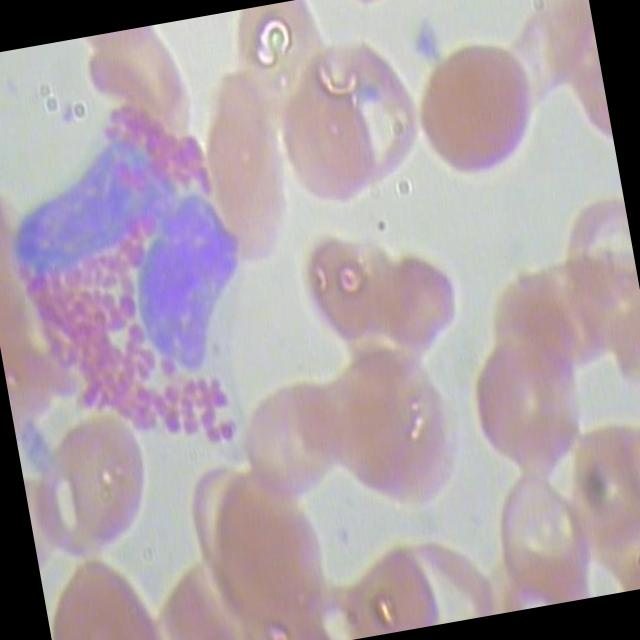Platelets: (401, 17, 449, 69)
RBC: (304, 340, 468, 528), (180, 59, 312, 274), (21, 410, 173, 592), (182, 475, 341, 640), (452, 323, 596, 488), (396, 37, 551, 190), (471, 468, 612, 614), (224, 374, 360, 514), (272, 78, 388, 220), (226, 0, 342, 139), (290, 229, 406, 360), (475, 274, 590, 406), (362, 244, 476, 376), (82, 22, 196, 153), (39, 548, 173, 640), (326, 539, 447, 640)
WBC: (0, 92, 279, 508)
